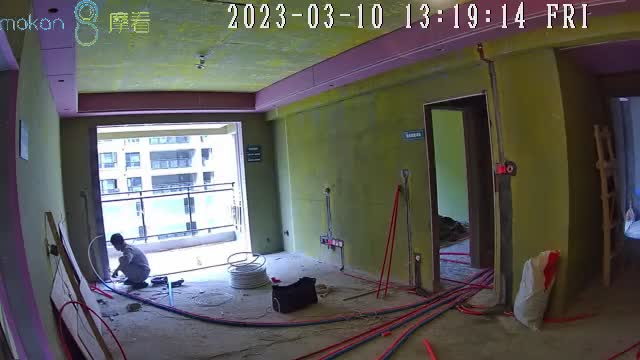people: (110, 233, 150, 288)
window: (94, 125, 238, 250)
